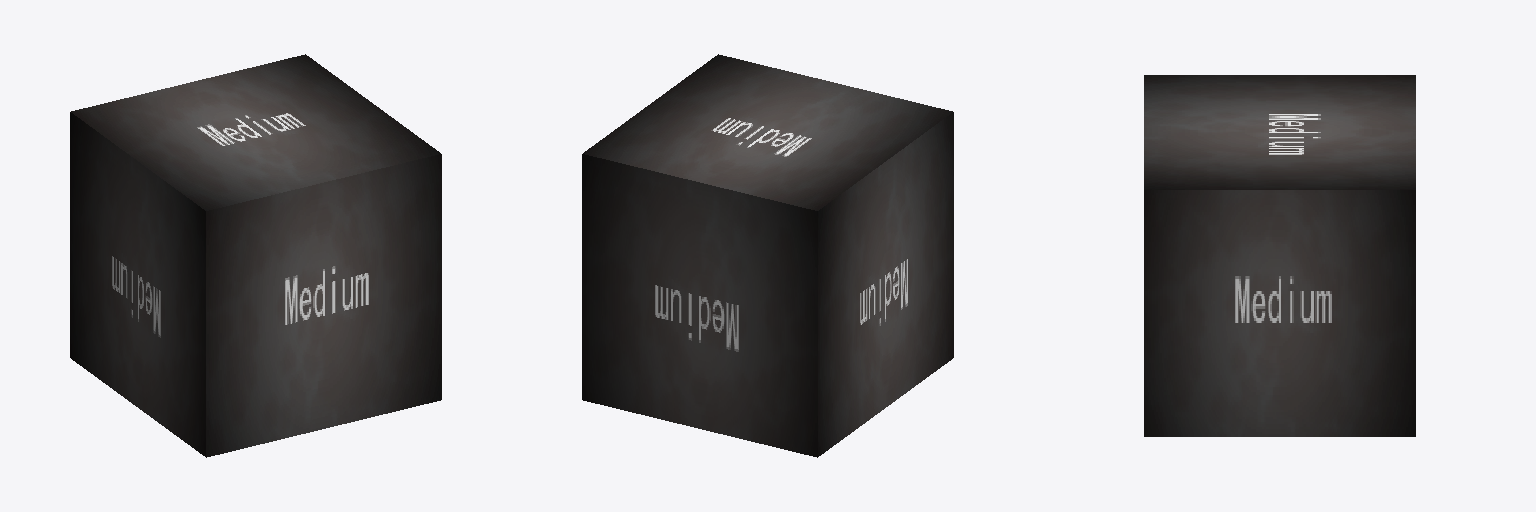
3 renders of one model, left to right at view 1: azimuth 30°, elevation 25°; view 2: azimuth 150°, elevation 25°; view 3: azimuth 270°, elevation 25°, orthographic.
Parts seen in each view (by area): view 1: Cube; view 2: Cube; view 3: Cube.
Part boxes in pixels (left/top/right/bottom): Cube: left=70, top=54, right=441, bottom=457; Cube: left=582, top=54, right=953, bottom=457; Cube: left=1144, top=75, right=1415, bottom=436.
Bounding box in the file's own units: 2 × 2 × 2.
1 materials, 1 textured.